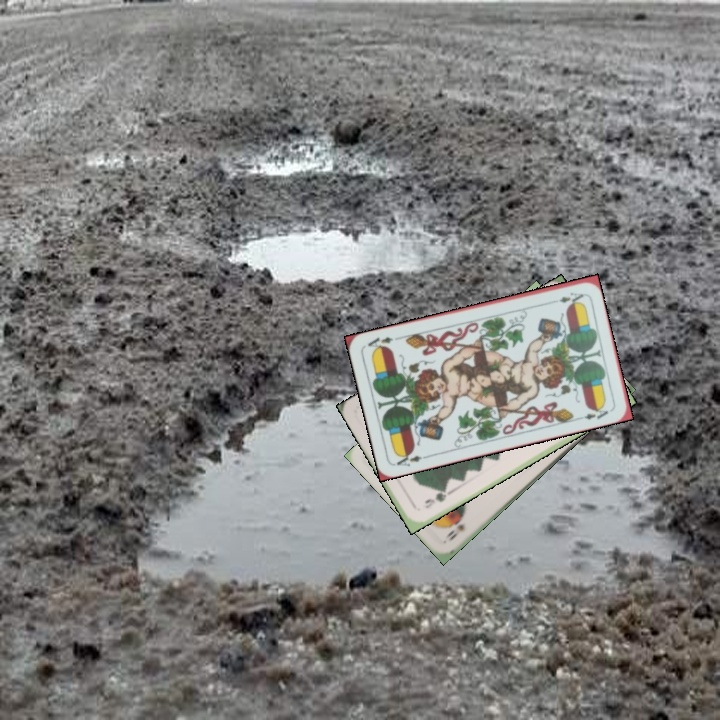EA: (392, 448, 431, 469), (545, 288, 586, 306)
G9: (421, 486, 452, 511)
SO: (441, 519, 467, 544)
